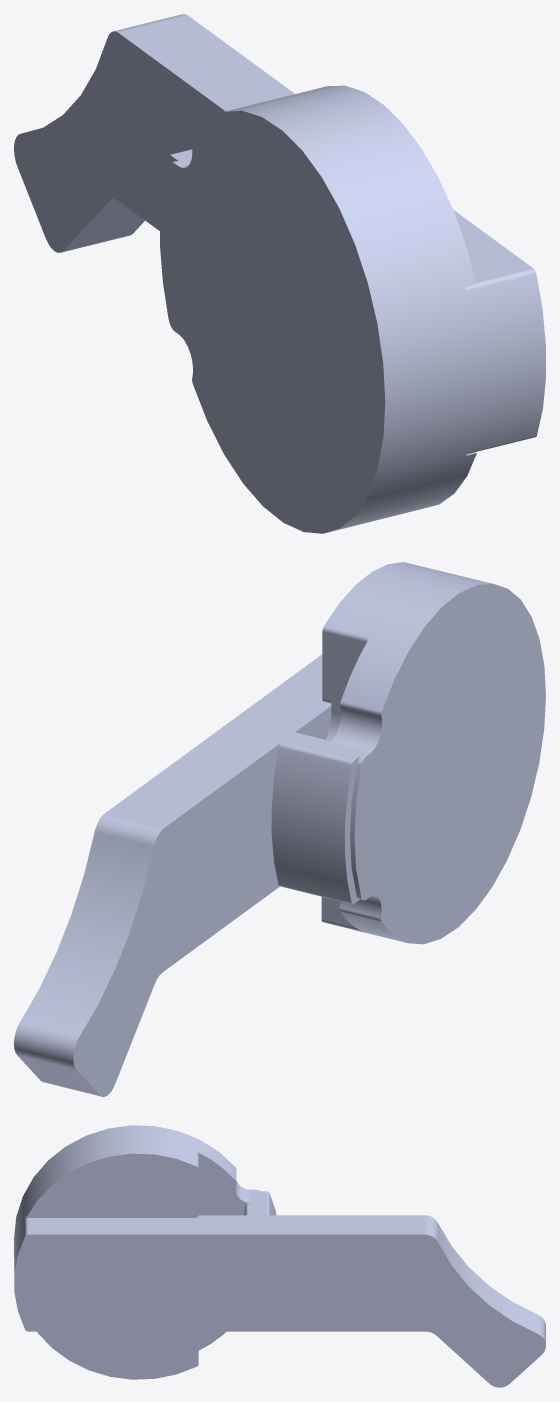
File: hand_5.obj
The picture shows the model from 3 angles, top to bottom: view 1: azimuth 30°, elevation 25°; view 2: azimuth 150°, elevation 25°; view 3: azimuth 270°, elevation 25°; orthographic projection. The views are drawn at different scales.
Visible parts, largest first — view 1: Body1; view 2: Body1; view 3: Body1.
Part boxes in pixels (x1,y1,x2,y2): Body1: (14,14,545,533); Body1: (14,562,545,1096); Body1: (14,1125,545,1387).
Size of the model in its own units: 0.0151 by 0.035 by 0.0747.
